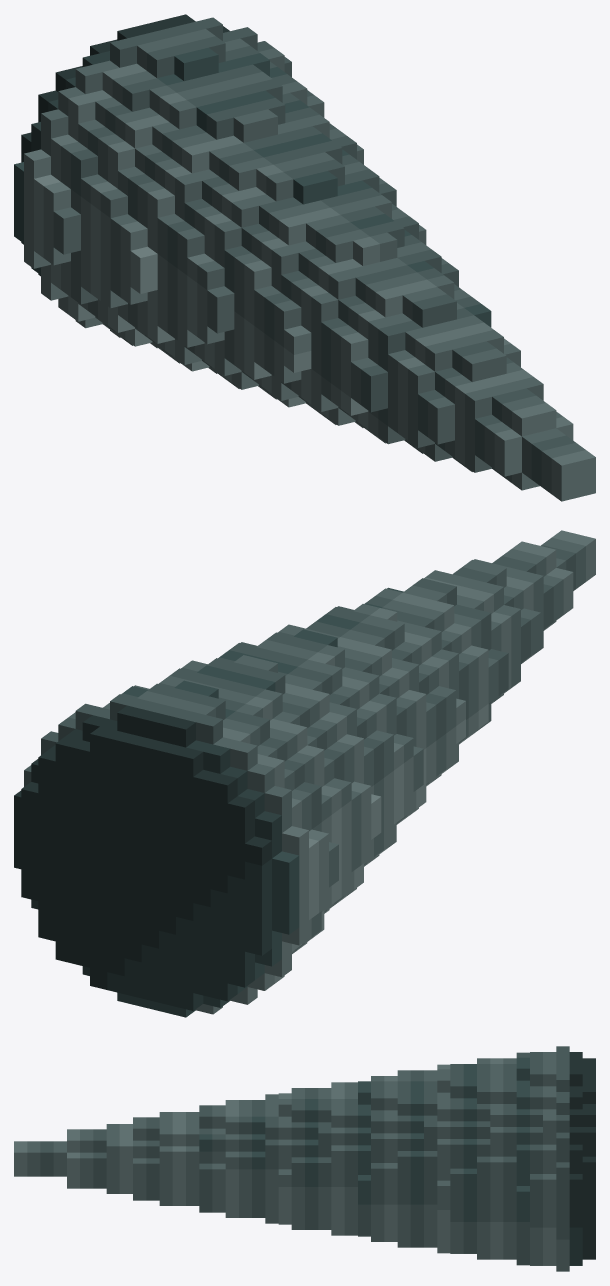
Rendered from pine_blue.obj.
3 views of the same model, one above another, from view 1: azimuth 30°, elevation 25°; view 2: azimuth 150°, elevation 25°; view 3: azimuth 270°, elevation 25° (orthographic). The views are drawn at different scales.
Size of the model in its own units: 1.6 by 1.6 by 4.4.
Materials: 1 (1 with a texture image).
